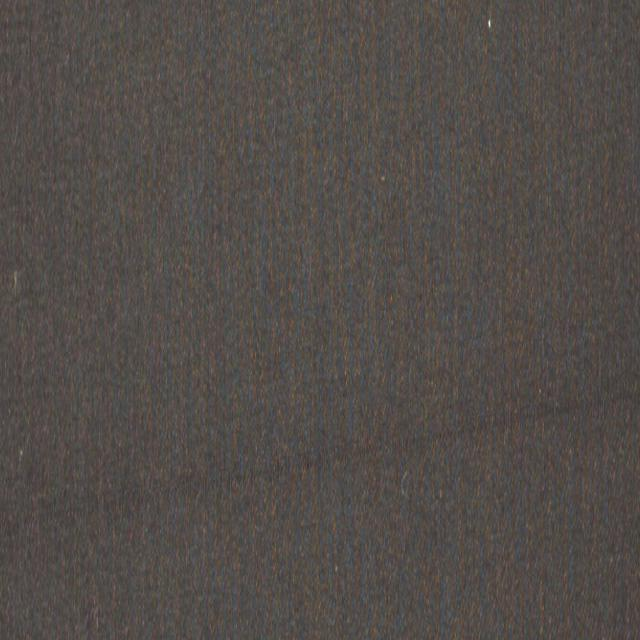Line: (0, 373, 640, 540)
